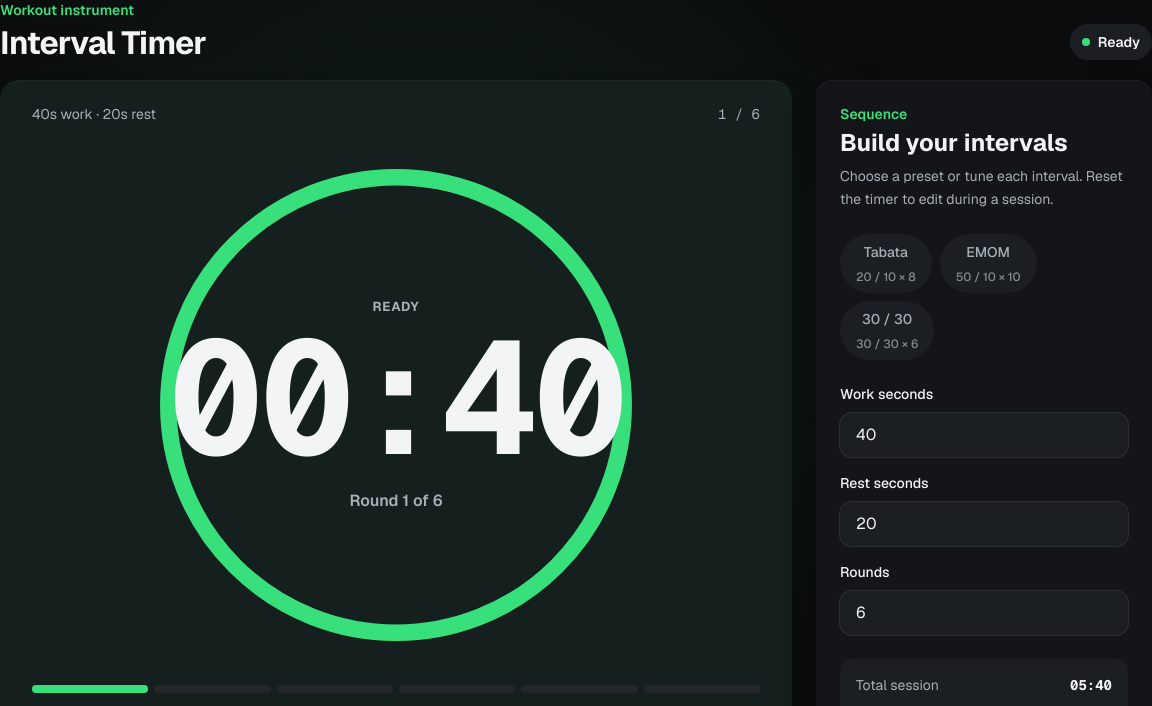
Interval Timer › catches up from elapsed wall-clock time after the tab was suspended
Replace the text in the number field labelled "Work seconds" with "5" at (984, 435), box [840,413,1128,457]
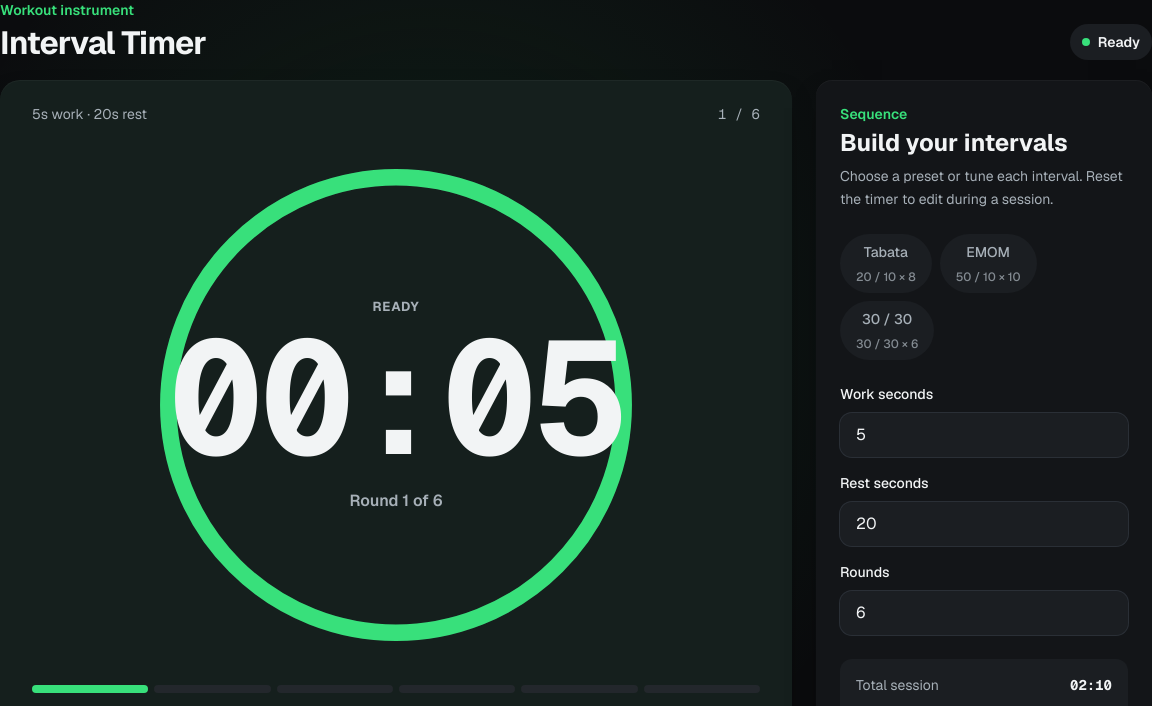
Replace the text in the number field labelled "Rest seconds" with "5" at (984, 524), box [840,502,1128,546]
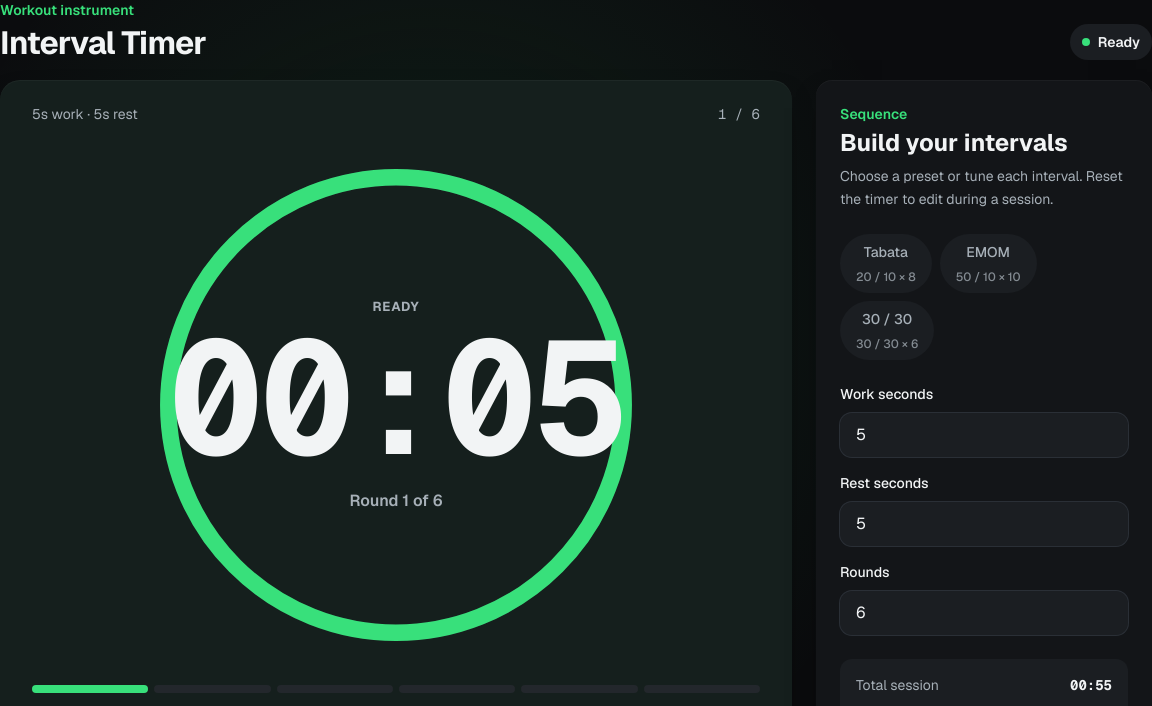
Replace the text in the number field labelled "Rounds" with "2" at (984, 613), box [840,591,1128,635]
(page scrolled)
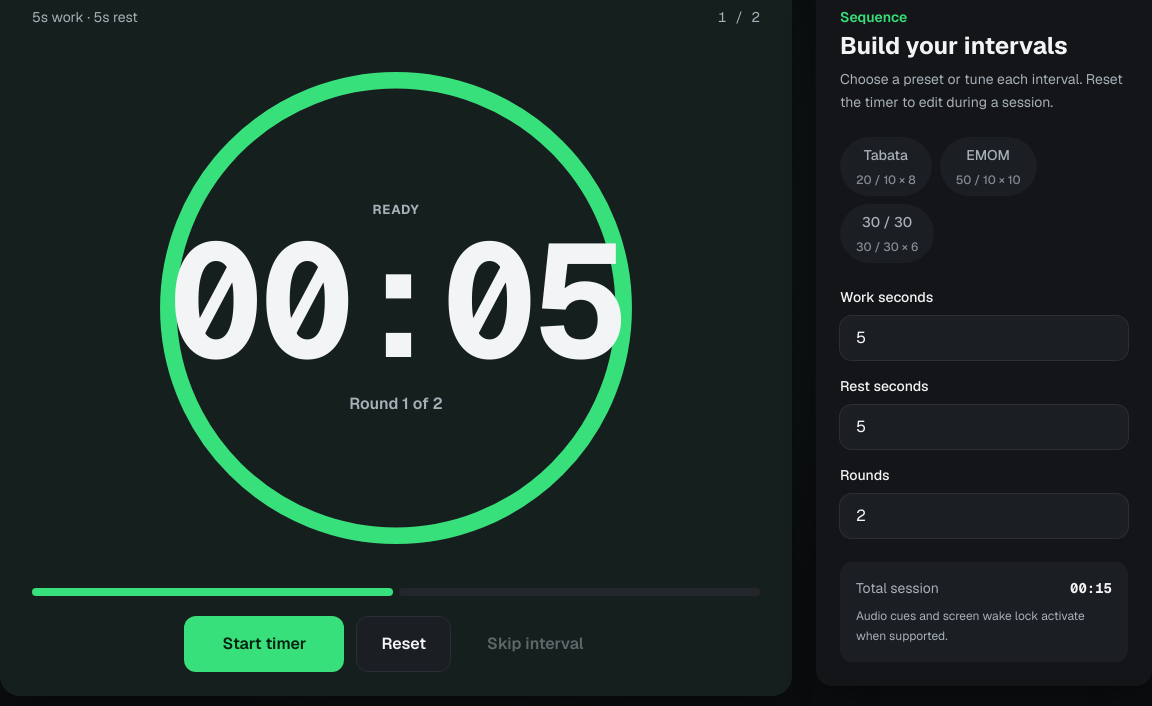
Click the button "Start timer" at (264, 644), box [184,616,344,672]
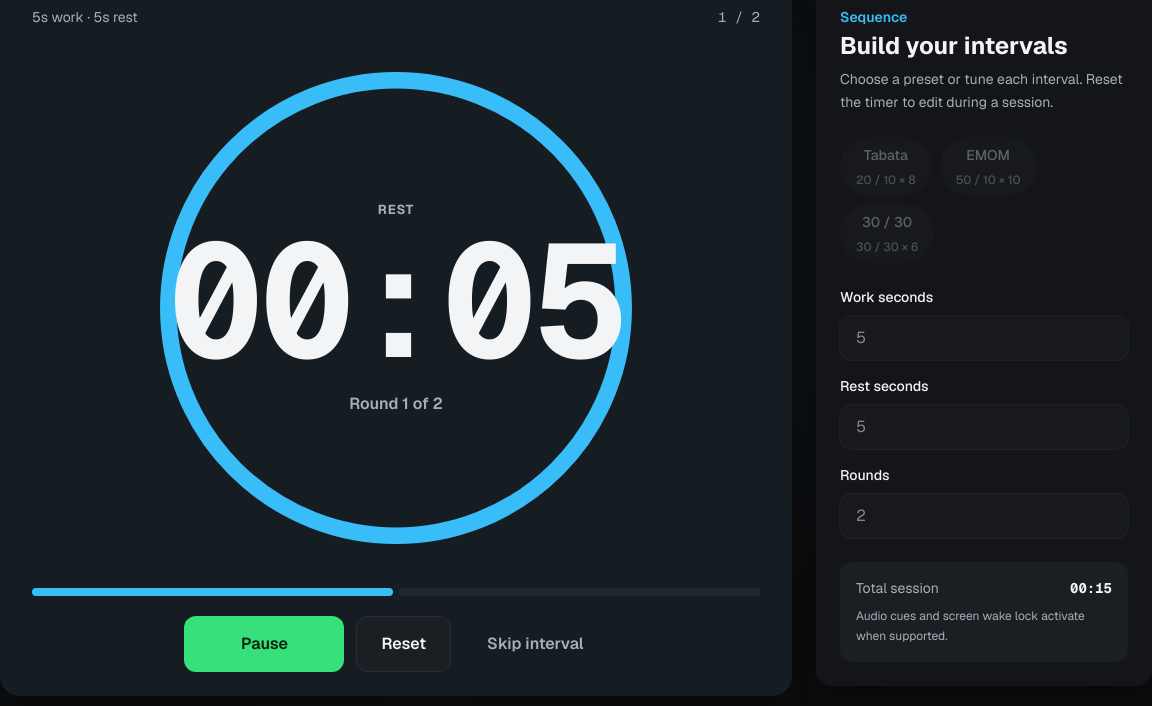
Expected: the text "Round 1 of 2" is shown, [349,392,443,416]
Expected: the text named "REST 00:05" is shown, [168,220,624,380]
